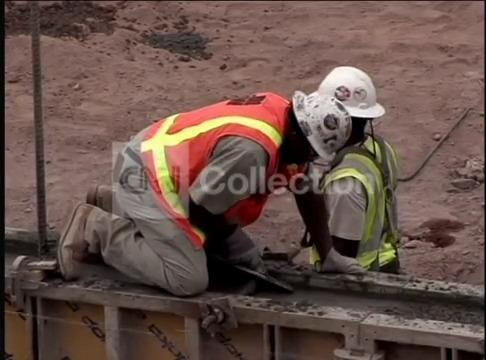Helmet: (317, 67, 381, 119), (298, 91, 344, 156)
Person: (26, 80, 325, 306), (294, 65, 401, 274)
Safety Boot: (54, 208, 107, 277)
Safety Vest: (158, 109, 285, 192), (326, 160, 391, 255)
